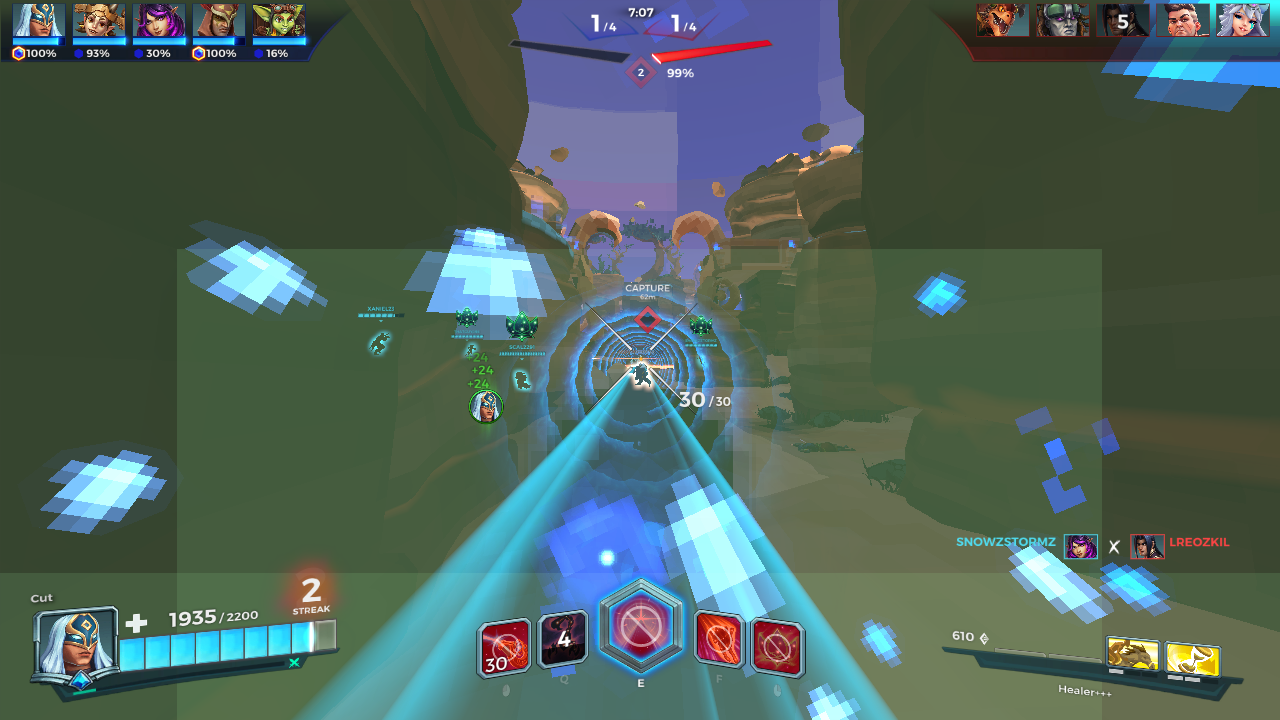model: (623, 361, 654, 388)
